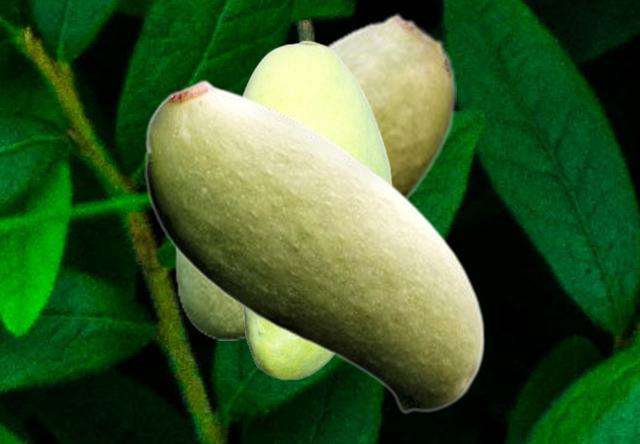green_mango: (144, 78, 484, 413), (174, 13, 455, 339), (240, 40, 391, 379)
